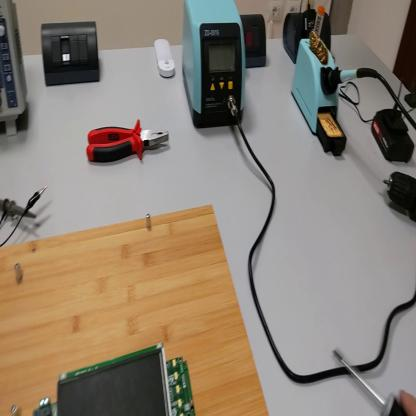electric screwdriver: (383, 174, 415, 225)
electric screwdriver battery: (372, 107, 415, 164)
hand: (400, 389, 416, 415)
low voltage board: (34, 339, 197, 415)
oscilloscope: (1, 1, 30, 136)
oscilloscope probe tip: (2, 196, 37, 222)
pliers: (86, 118, 171, 164)
screwdriver-: (331, 350, 405, 416)
socket: (282, 7, 332, 66), (241, 11, 269, 69)
welder base: (291, 6, 349, 160)
welder probe tip: (331, 70, 381, 88)
welder station: (183, 1, 248, 131)
working area: (1, 206, 267, 414)
